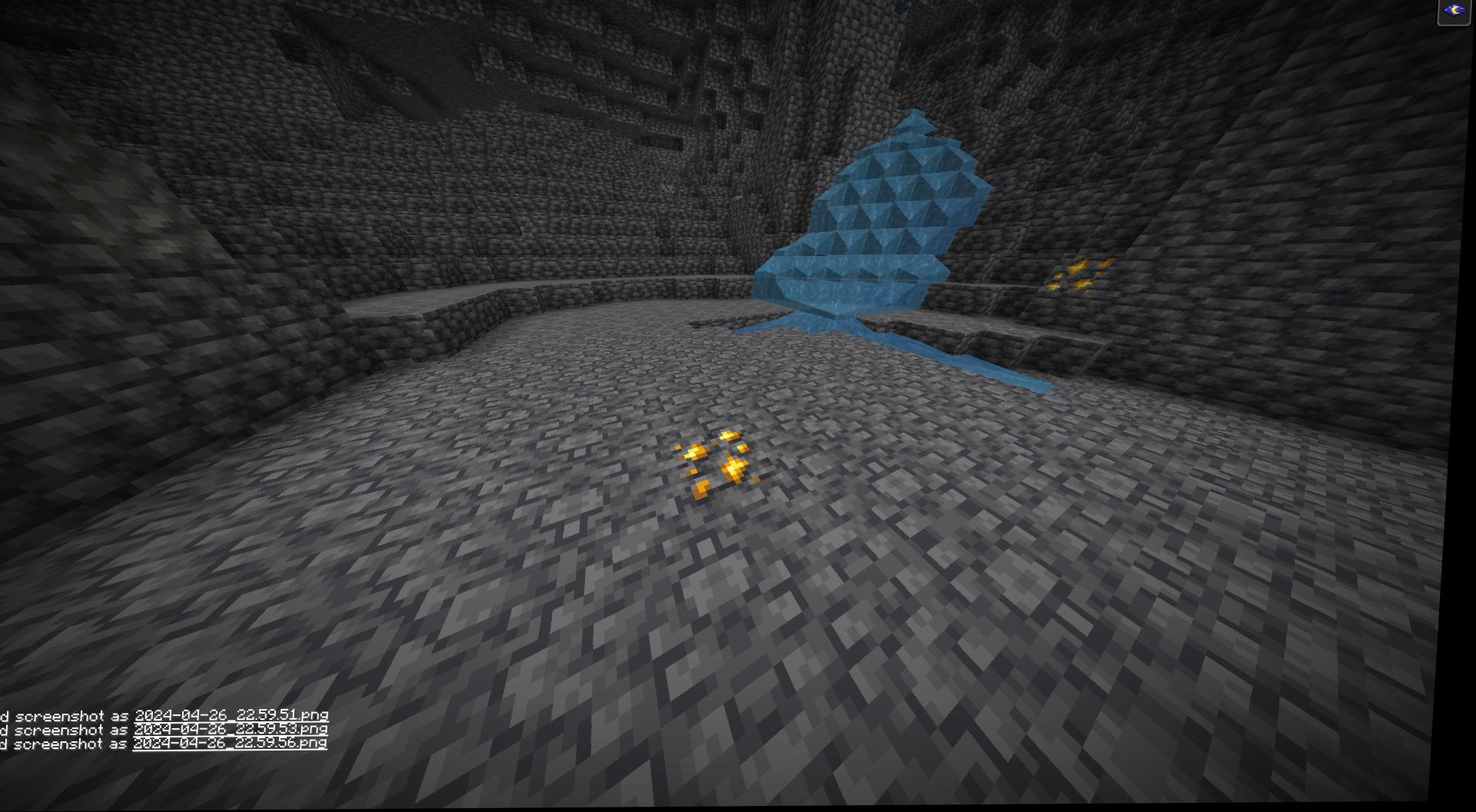gold ore: (685, 426, 770, 503), (1051, 256, 1113, 296)
